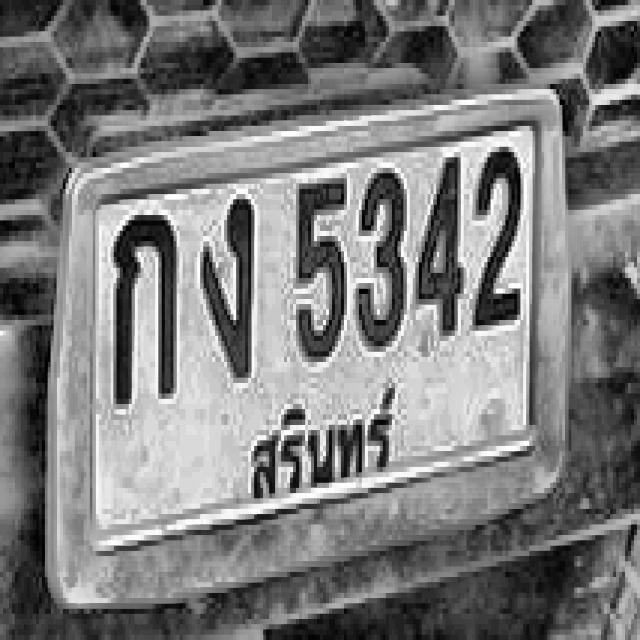license-plate: (41, 82, 569, 613)
